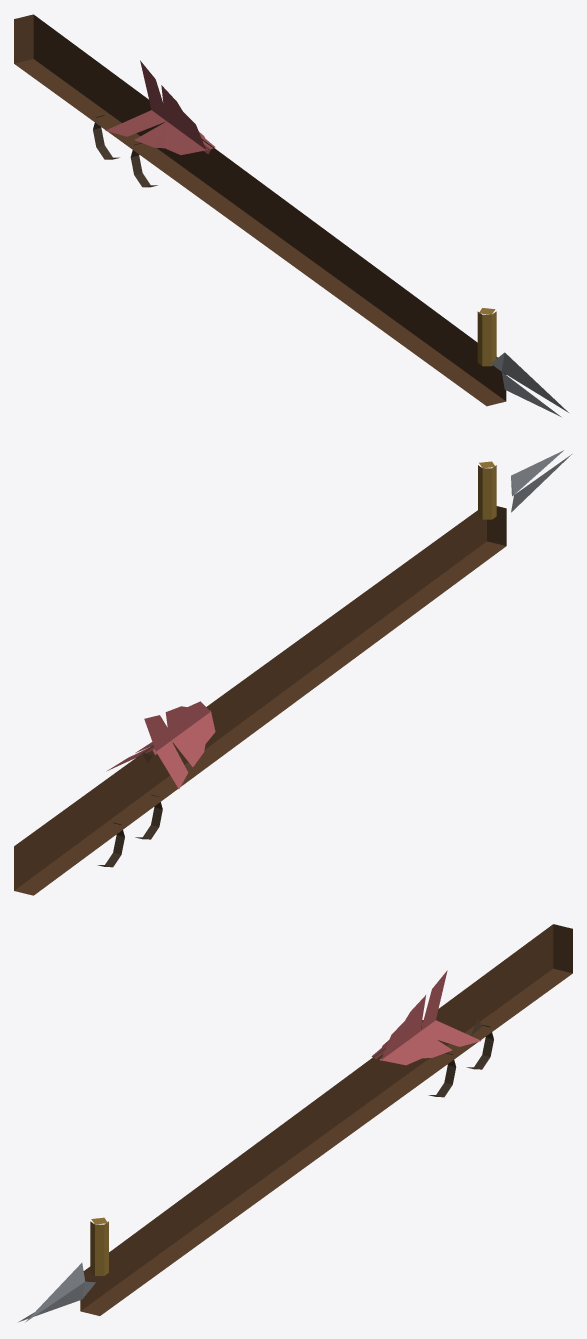
Rendered from atlatl.lod.glb.
3 renders of one model, top to bottom at view 1: azimuth 30°, elevation 25°; view 2: azimuth 150°, elevation 25°; view 3: azimuth 330°, elevation 25°, orthographic.
Visible parts, largest first — view 1: m; view 2: m; view 3: m.
Boxes of the visible parts, x1,y1,x2,y2 form: m: (14,14,568,416); m: (14,450,571,895); m: (18,924,572,1322).
Size of the model in its own units: 0.0428 by 0.0688 by 0.5454.
